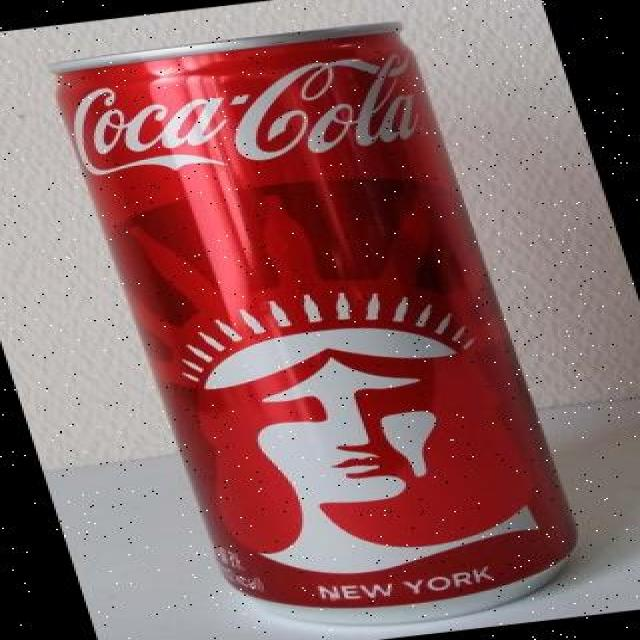coca-cola: (34, 10, 608, 640)
